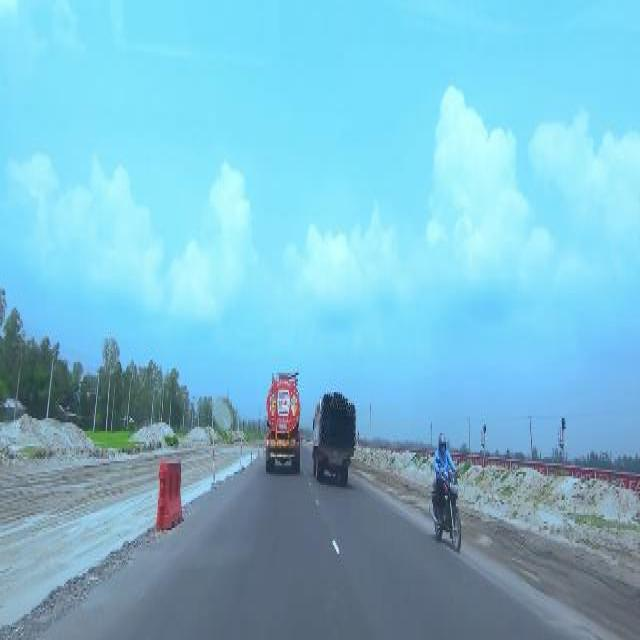motorbike: (427, 428, 461, 550)
truck: (312, 388, 354, 480), (265, 366, 301, 468)
